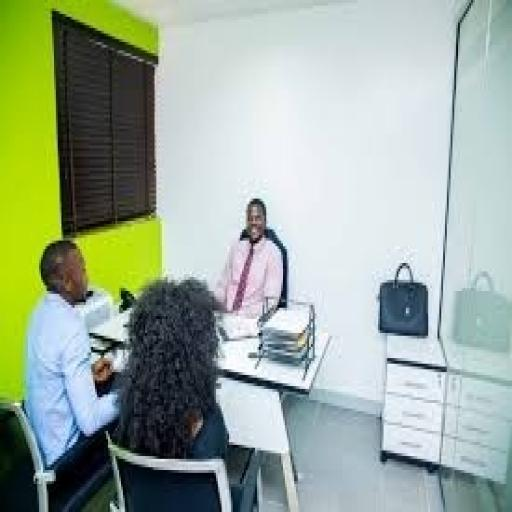sitting: (20, 193, 288, 506), (20, 235, 125, 470)
